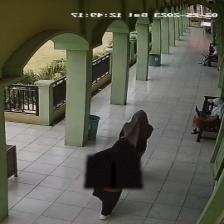Cadar_Niqab: (83, 136, 142, 188)
